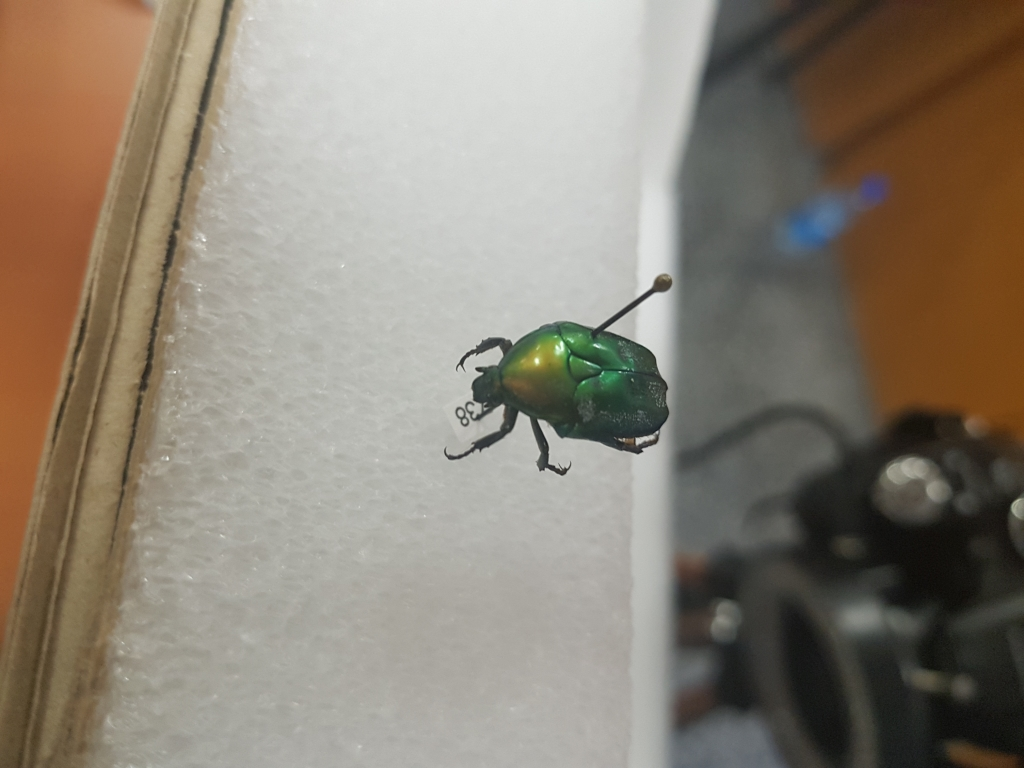Protaetia_cuprea_ignicollis: (437, 317, 675, 482)
